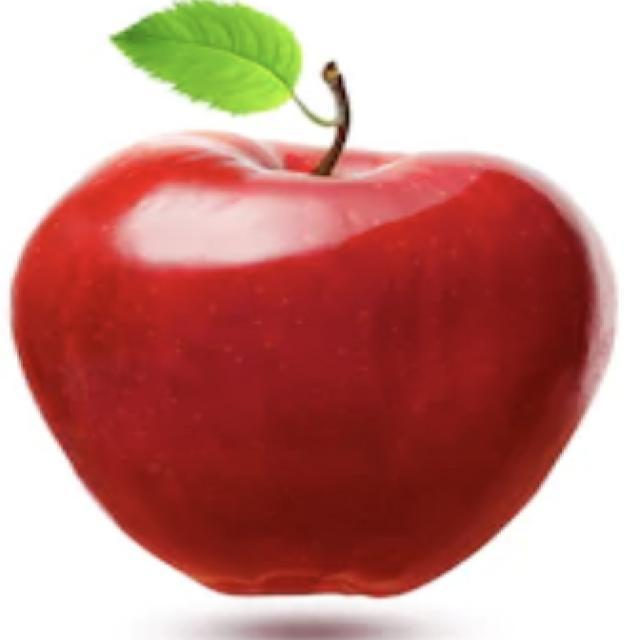Fresh Apple: (32, 127, 605, 585)
